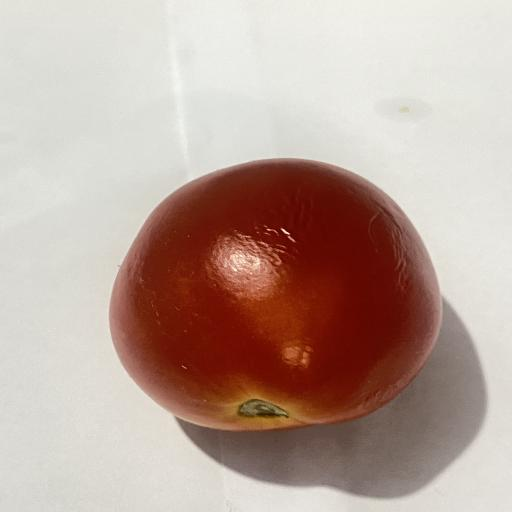overipe: (110, 159, 441, 431)
